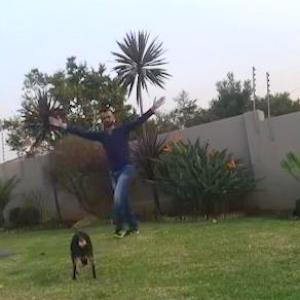takeoff: (54, 65, 160, 254)
